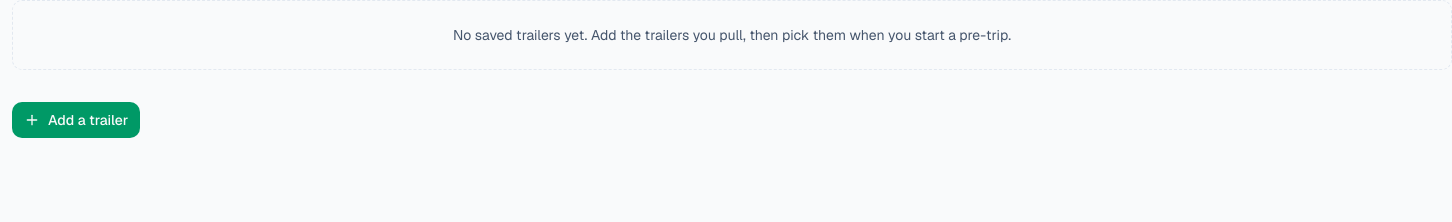
Test: TrailerList › needs a plate
Click the button "Add a trailer": (76, 120) left=12, top=102, right=140, bottom=138
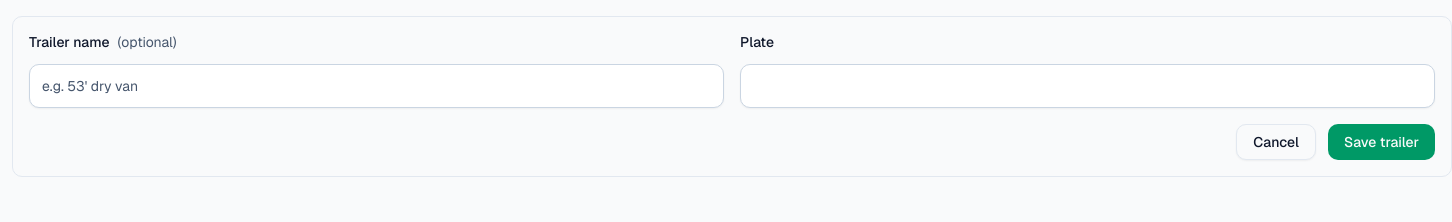
Click the button "Save trailer": (1381, 142) left=1328, top=124, right=1435, bottom=160
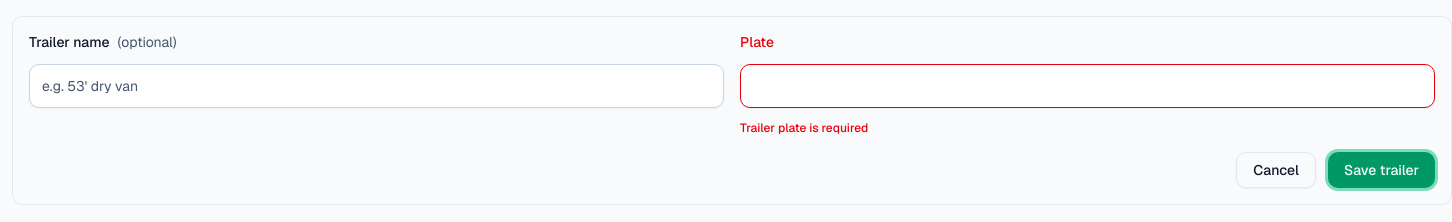
Check: the text "Trailer plate is required" is shown, box left=740, top=120, right=868, bottom=136
